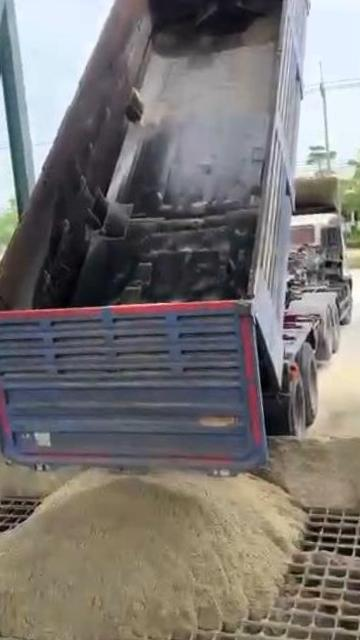sand: (0, 471, 303, 640), (260, 433, 360, 515), (0, 419, 77, 503), (307, 551, 360, 569)
